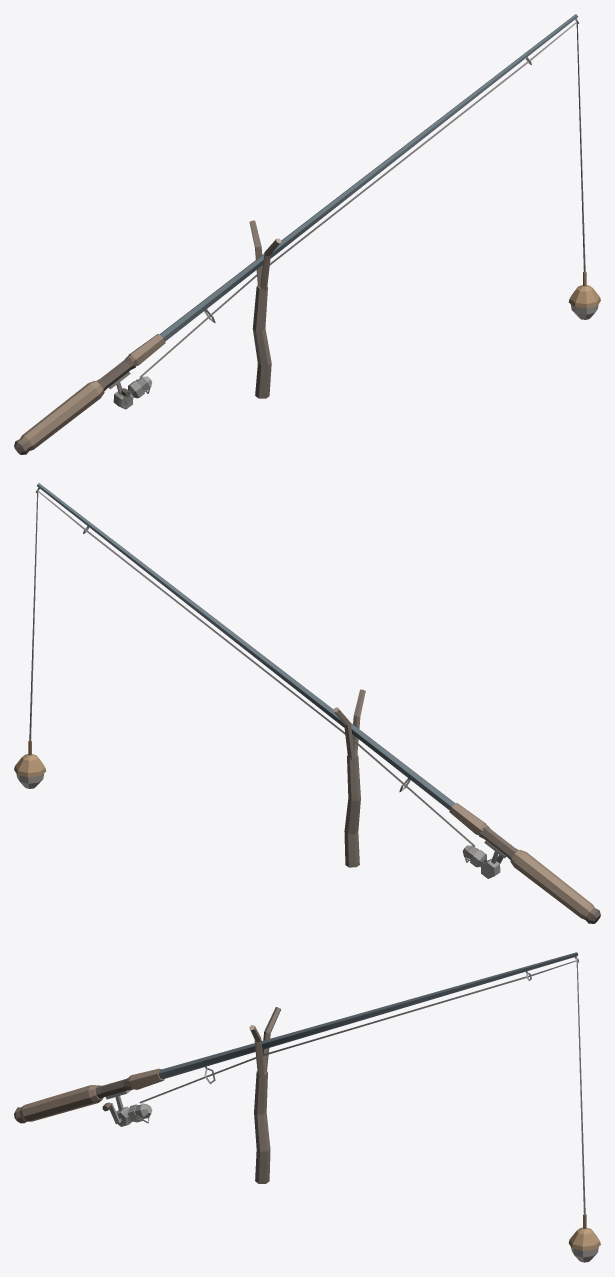
The model's file is rod.glb.
3 views of the same model, one above another, from view 1: azimuth 30°, elevation 25°; view 2: azimuth 150°, elevation 25°; view 3: azimuth 330°, elevation 25° (orthographic).
Visible parts, largest first — view 1: rod.001; view 2: rod.001; view 3: rod.001.
Boxes of the visible parts, x1,y1,x2,y2 form: rod.001: (14,14,600,454); rod.001: (14,483,600,923); rod.001: (14,952,600,1262).
Bounding box in the file's own units: 2.23 × 1.12 × 0.1911.
